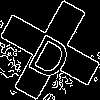D: (25, 25, 79, 82)
